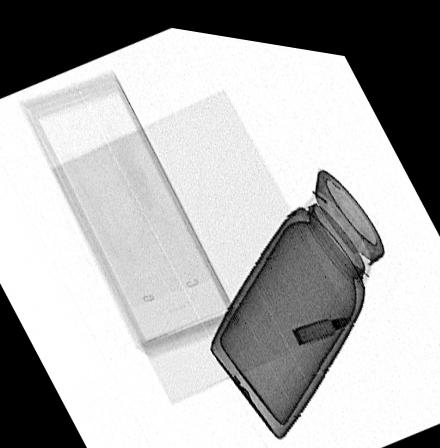Bullet: (290, 304, 350, 336)
